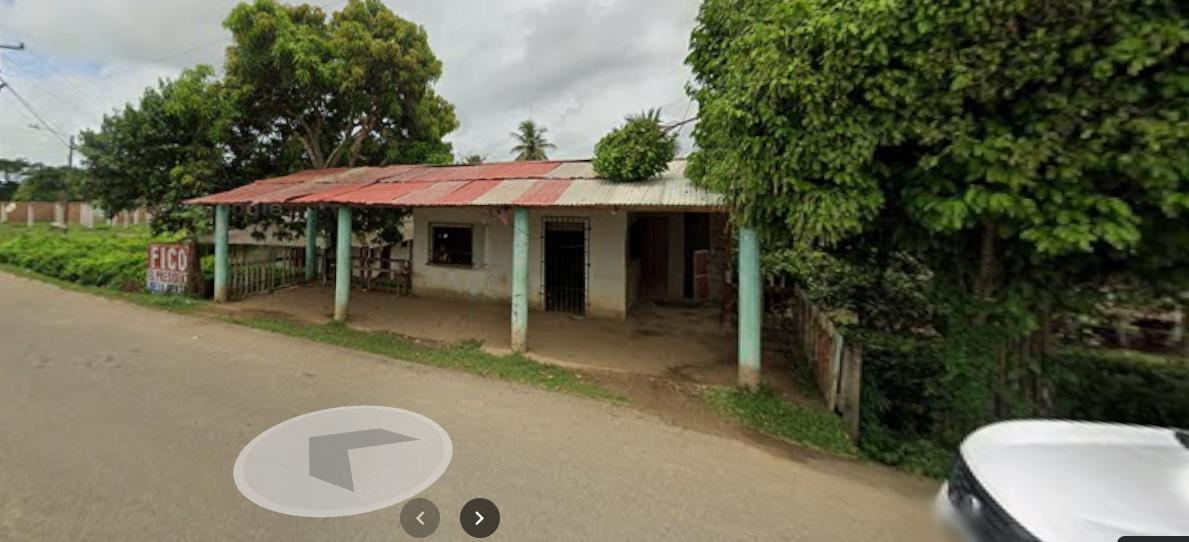casa: (186, 159, 765, 388)
